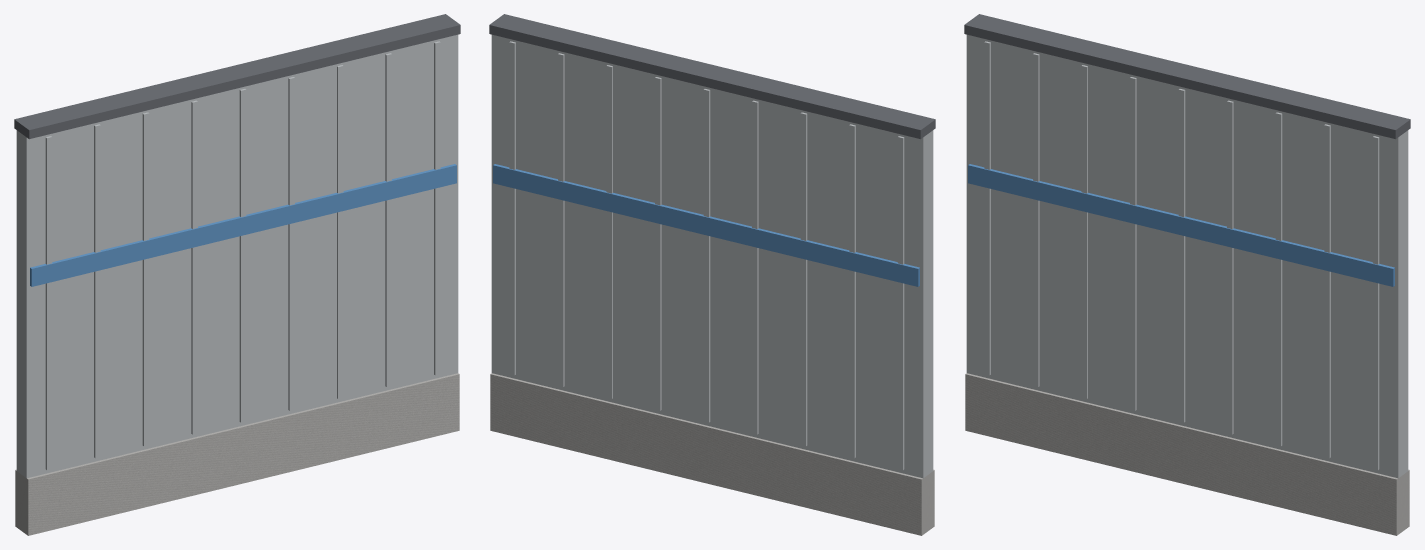
Rendered from parcel-depot-and-sorting-hall-parcel-depot-and-sorting-cbea172b__34819.glb.
3 renders of one model, left to right at view 1: azimuth 30°, elevation 25°; view 2: azimuth 150°, elevation 25°; view 3: azimuth 330°, elevation 25°, orthographic.
Parts seen in each view (by area): view 1: parcel-depot-and-sorting-hall-hall-wall-module; view 2: parcel-depot-and-sorting-hall-hall-wall-module; view 3: parcel-depot-and-sorting-hall-hall-wall-module.
Boxes of the visible parts, bbox=[...] form: parcel-depot-and-sorting-hall-hall-wall-module: bbox=[14, 14, 460, 535]; parcel-depot-and-sorting-hall-hall-wall-module: bbox=[489, 14, 935, 535]; parcel-depot-and-sorting-hall-hall-wall-module: bbox=[964, 14, 1410, 535].
Size of the model in its own units: 4 by 3.6 by 0.2398.
Materials: 4 (1 with a texture image).
